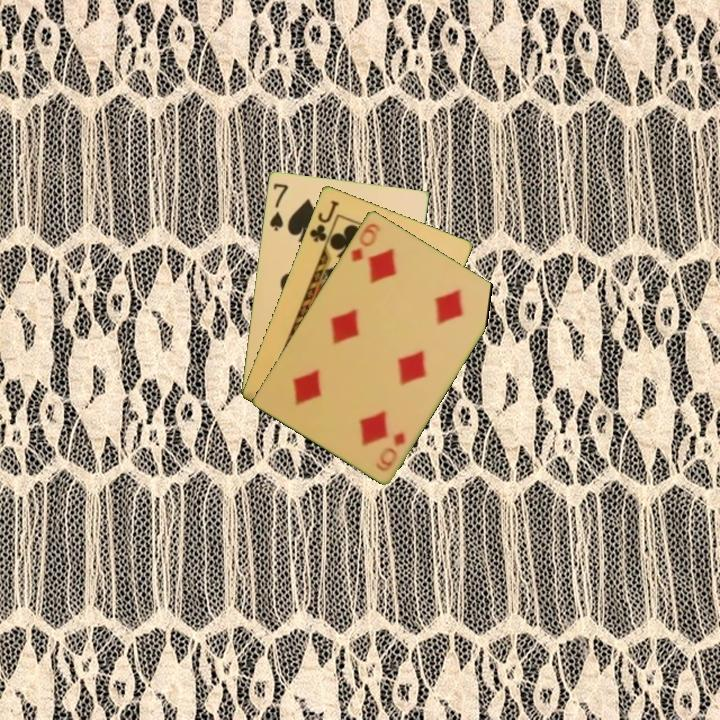6d: (347, 219, 383, 265), (376, 428, 408, 469)
7s: (266, 179, 291, 233)
Jc: (306, 196, 342, 250)
